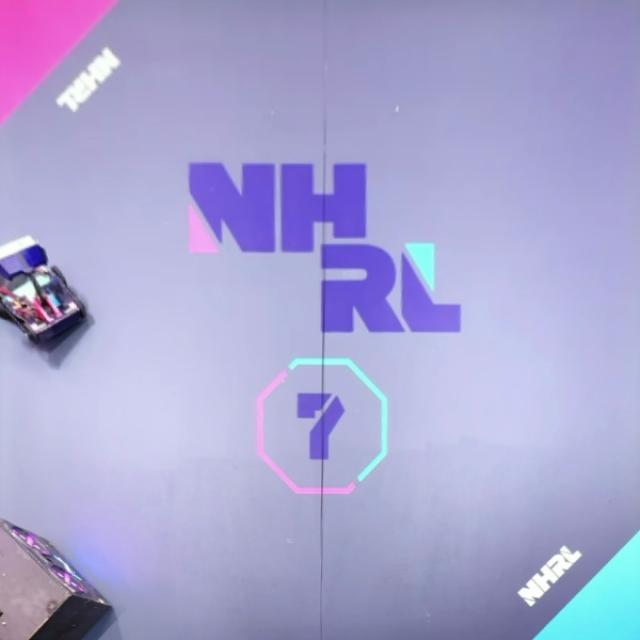housebot: (0, 518, 113, 640)
robot: (0, 236, 85, 342)
